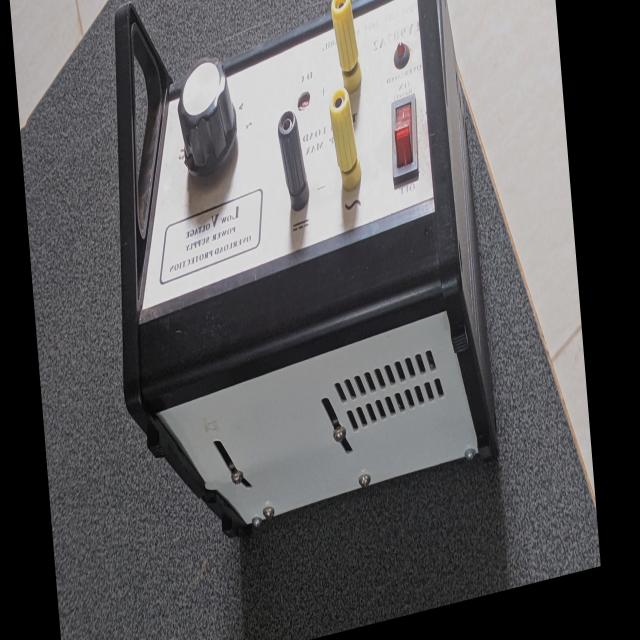AC-AD Regulated Power Supply: (90, 0, 494, 575)
